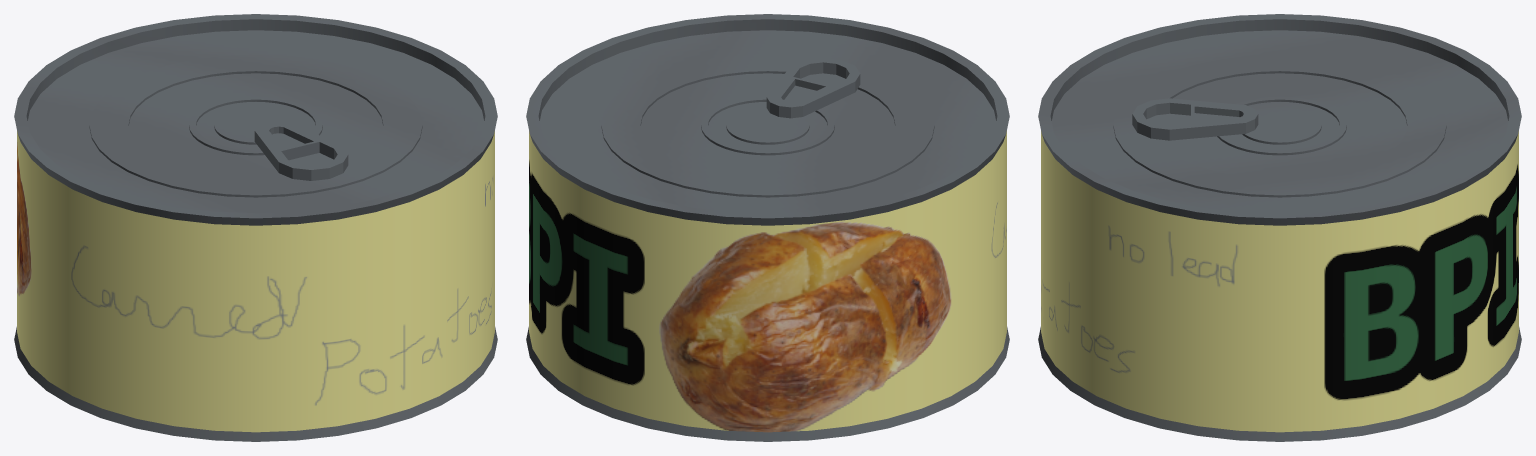
File: potato can.fbx
3 views of the same model, side by side, from view 1: azimuth 30°, elevation 25°; view 2: azimuth 150°, elevation 25°; view 3: azimuth 270°, elevation 25° (orthographic).
Parts seen in each view (by area): view 1: Cylinder; view 2: Cylinder; view 3: Cylinder.
Part boxes in pixels (x1,y1,x2,y2): Cylinder: (14, 14, 497, 441); Cylinder: (526, 14, 1009, 441); Cylinder: (1038, 14, 1521, 441).
Size of the model in its own units: 200 by 103 by 200.
Materials: 1 (1 with a texture image).
